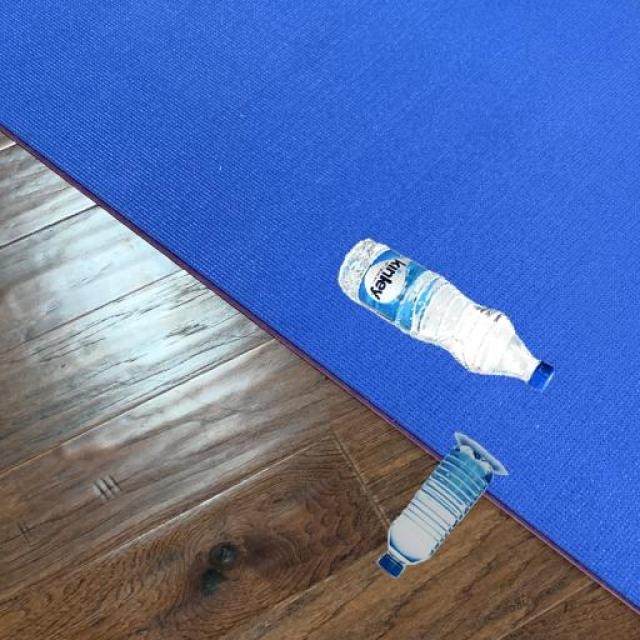plasticbottle: (335, 224, 578, 406)
plasticbottlecap: (363, 534, 440, 594), (520, 344, 569, 406)
